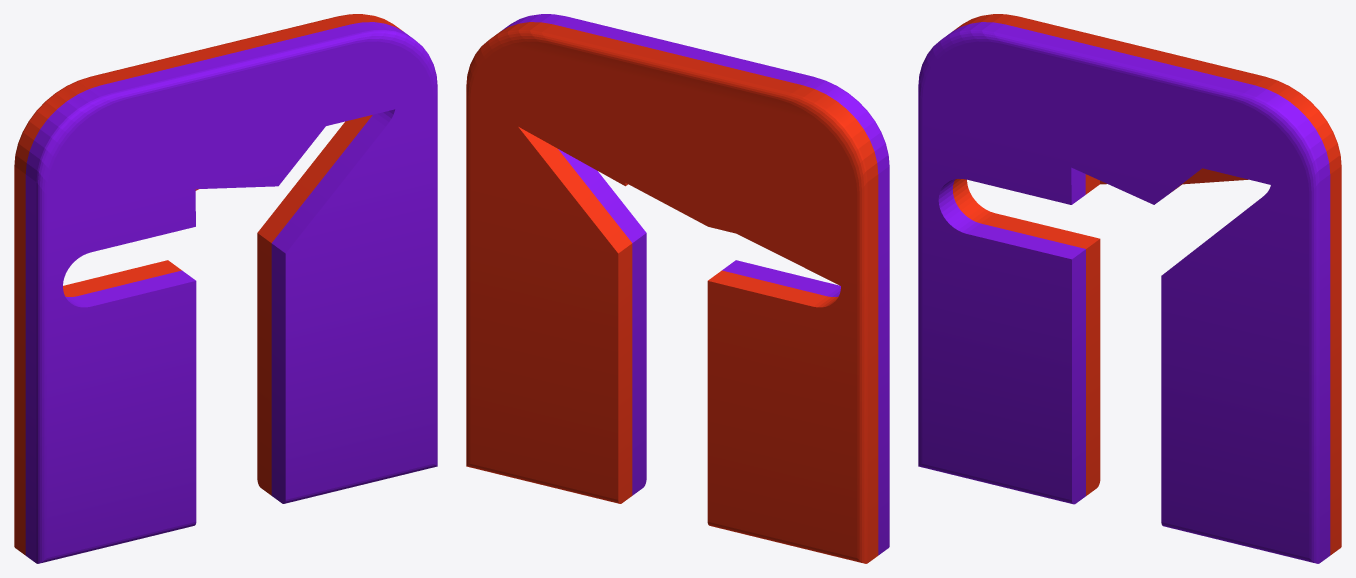
Rendered from wall_24.fbx.
3 views of the same model, side by side, from view 1: azimuth 30°, elevation 25°; view 2: azimuth 150°, elevation 25°; view 3: azimuth 330°, elevation 25° (orthographic).
Visible parts, largest first — view 1: wall_24; view 2: wall_24; view 3: wall_24.
Boxes of the visible parts, <box> form: wall_24: <box>14,14,437,563</box>; wall_24: <box>466,14,889,563</box>; wall_24: <box>918,14,1341,563</box>.
Bounding box in the file's own units: 338 × 365 × 41.39.
1 material, 1 textured.
